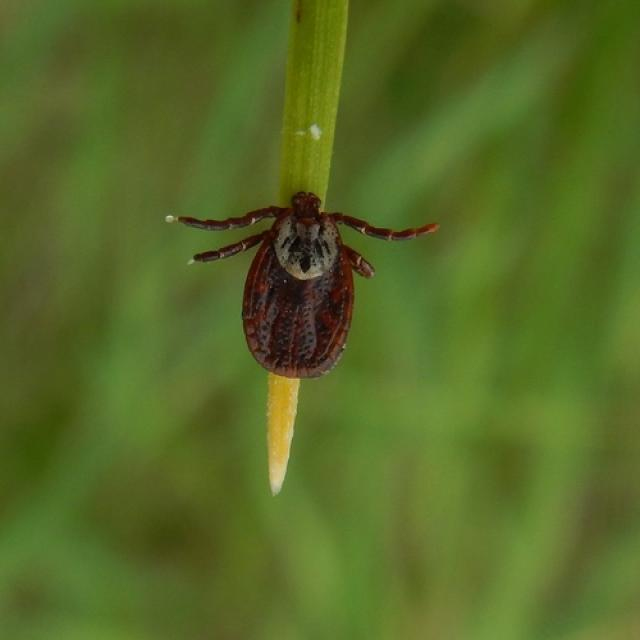Dermacentor Reticulatus-F: (166, 189, 439, 379)
